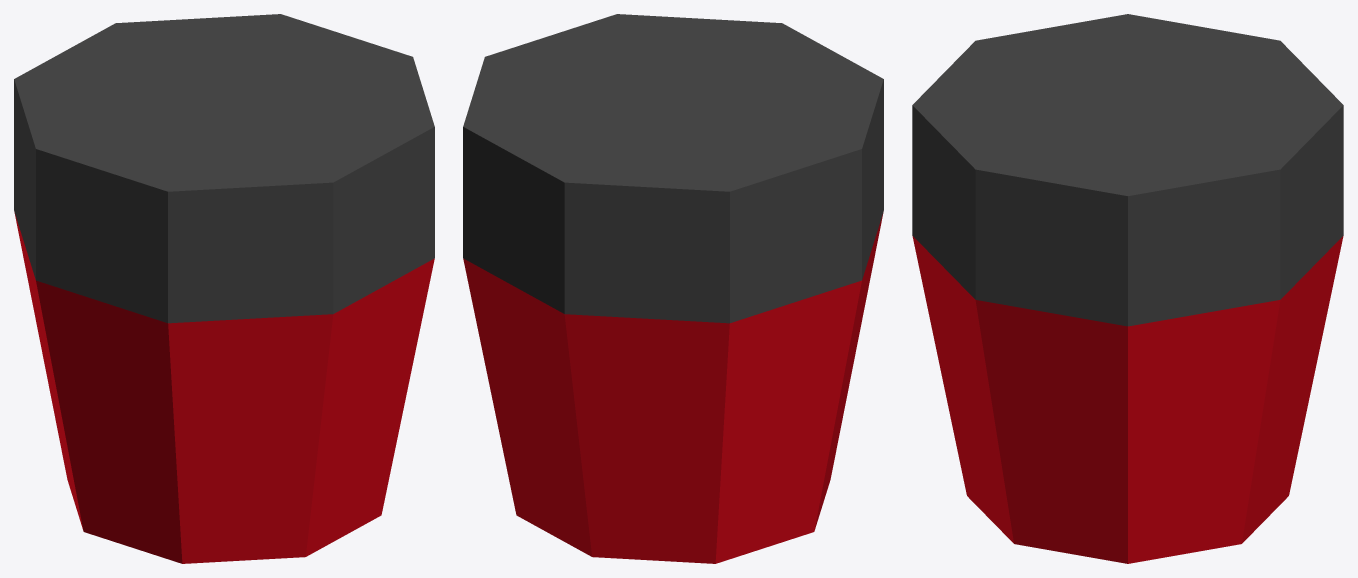
Rendered from scifi_light_5.fbx.
3 views of the same model, side by side, from view 1: azimuth 30°, elevation 25°; view 2: azimuth 150°, elevation 25°; view 3: azimuth 270°, elevation 25° (orthographic).
Visible parts, largest first — view 1: Cylinder.002; view 2: Cylinder.002; view 3: Cylinder.002.
Boxes of the visible parts, x1,y1,x2,y2 form: Cylinder.002: (14, 14, 434, 563); Cylinder.002: (463, 14, 883, 563); Cylinder.002: (912, 14, 1343, 563).
Bounding box in the file's own units: 0.3 × 0.3 × 0.3.
